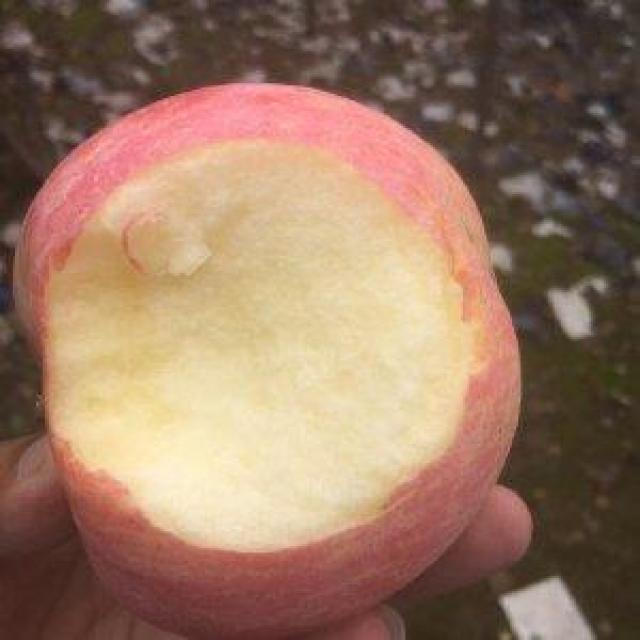Apple: (8, 77, 528, 630)
